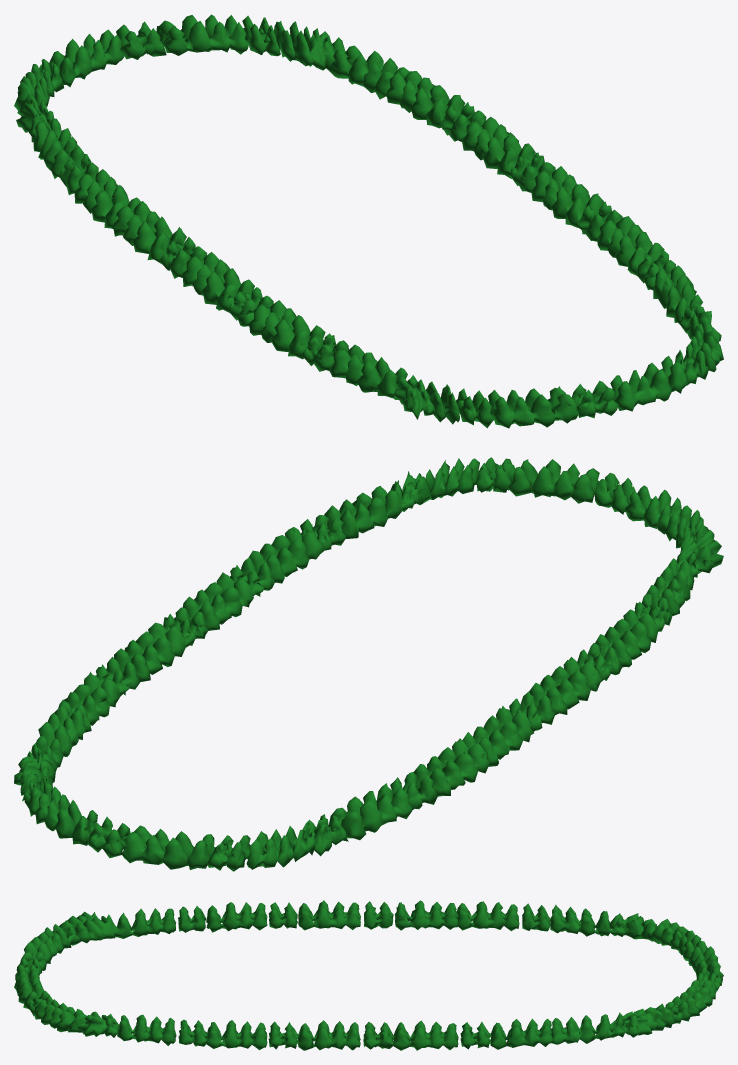
The model's file is Trees.fbx.
3 views of the same model, one above another, from view 1: azimuth 30°, elevation 25°; view 2: azimuth 150°, elevation 25°; view 3: azimuth 270°, elevation 25° (orthographic). The views are drawn at different scales.
Visible parts, largest first — view 1: Mball.001; view 2: Mball.001; view 3: Mball.001.
Part boxes in pixels (box(x1,y1,x2,y2)): Mball.001: box(14, 14, 723, 428); Mball.001: box(14, 457, 723, 871); Mball.001: box(14, 900, 723, 1050).
Bounding box in the file's own units: 19071 × 1493 × 42561.
